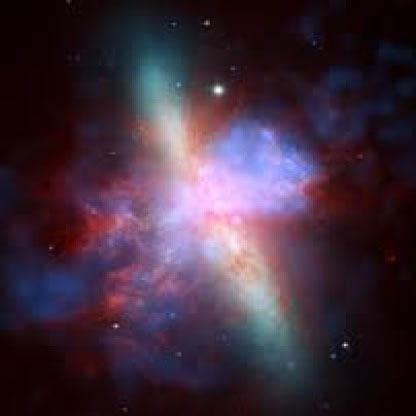Messier 82: (43, 11, 354, 396)
